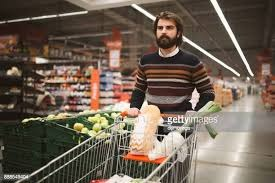with_basket: (108, 108, 201, 183)
without_mask: (155, 12, 181, 49)
